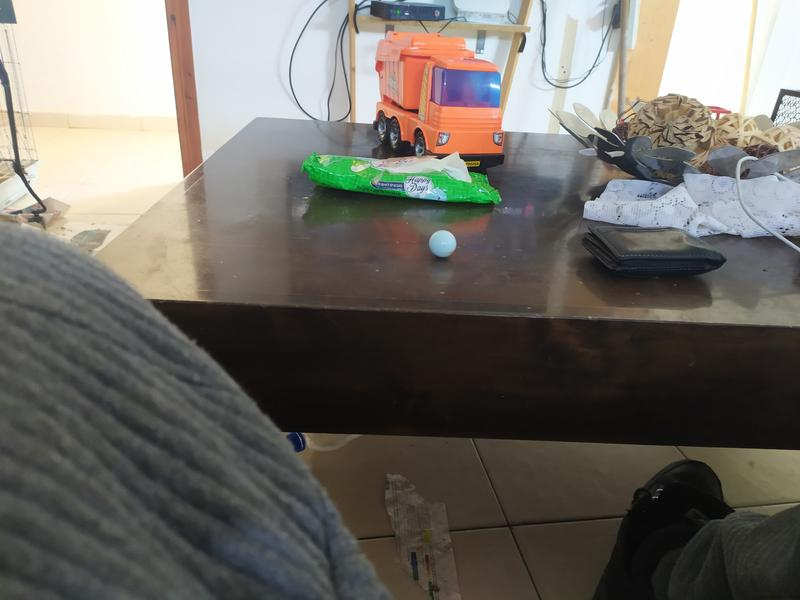Warning: (427, 228, 459, 259)
